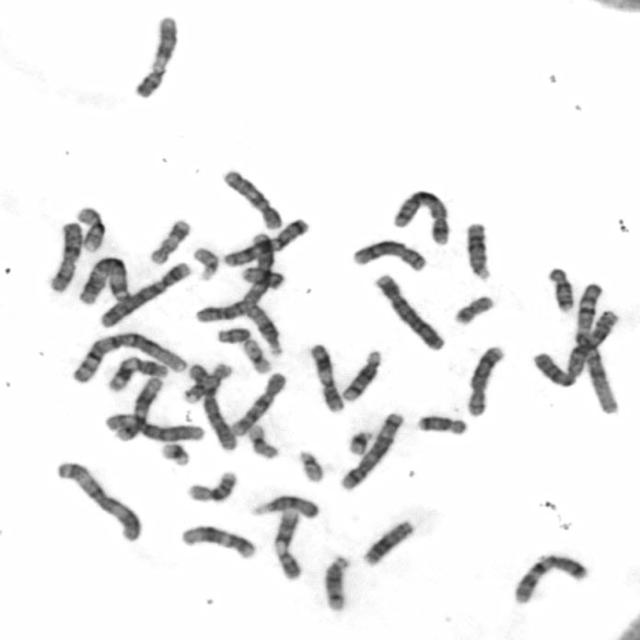A1: (67, 328, 187, 385), (573, 281, 622, 416)
A2: (193, 229, 278, 324), (528, 305, 622, 388)
A3: (49, 456, 144, 543), (74, 254, 132, 306)
B4: (96, 258, 193, 329), (370, 269, 447, 353)
B5: (337, 408, 407, 492), (390, 187, 453, 247)
C10: (227, 368, 289, 437), (220, 166, 285, 231)
C11: (306, 341, 345, 414), (102, 353, 170, 393)
C12: (110, 373, 165, 443), (176, 520, 258, 560)
C6: (186, 362, 238, 452), (102, 410, 206, 443)
C7: (219, 215, 310, 267), (508, 550, 590, 606)
C8: (462, 343, 507, 417), (348, 235, 429, 273)
C9: (130, 12, 181, 101), (270, 506, 304, 582)
D13: (358, 517, 416, 567), (462, 218, 494, 282)
D14: (337, 346, 383, 403), (320, 552, 351, 612)
D15: (244, 302, 285, 358), (248, 492, 321, 520)
E16: (182, 467, 240, 504), (72, 204, 108, 252)
E17: (179, 360, 234, 404), (146, 216, 192, 265)
E18: (544, 263, 576, 313), (413, 412, 469, 437)
F19: (244, 421, 281, 460), (238, 336, 274, 376)
F20: (451, 292, 496, 326), (238, 263, 287, 291)
G21: (156, 438, 192, 467), (344, 427, 376, 456)
G22: (294, 446, 327, 485), (191, 244, 220, 282)
X: (43, 218, 85, 294)
Y: (214, 324, 252, 344)
